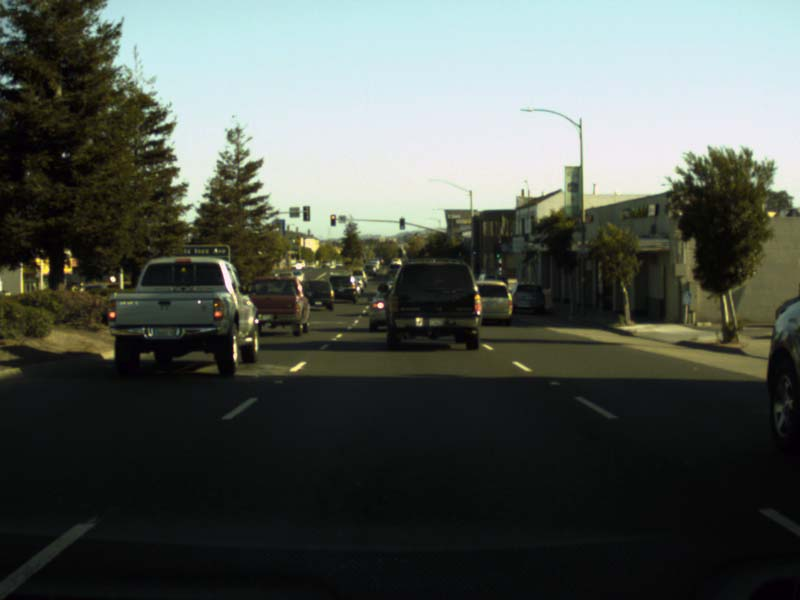Green: (494, 244, 500, 258), (399, 217, 405, 230), (471, 247, 477, 257)
Red: (330, 214, 336, 226)
